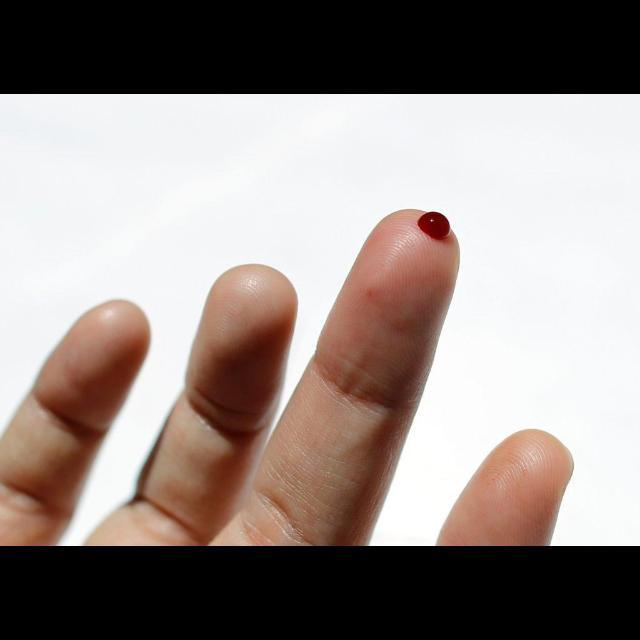blood: (418, 212, 451, 239)
